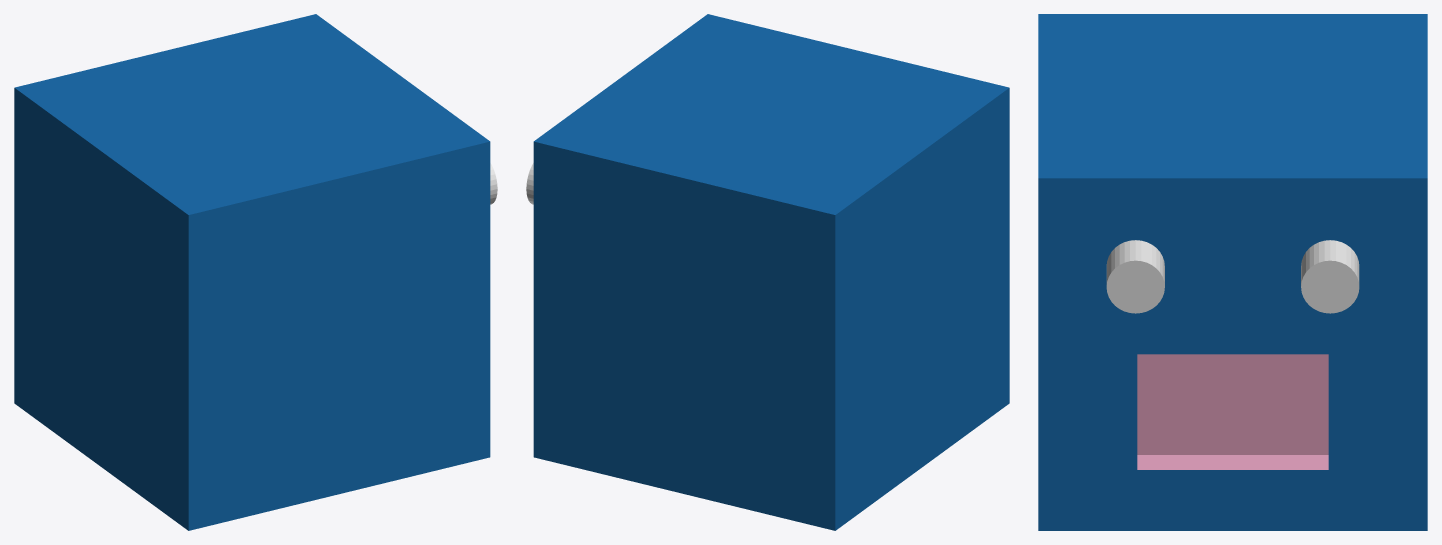
File: boxkun.fbx
The picture shows the model from 3 angles, left to right: view 1: azimuth 30°, elevation 25°; view 2: azimuth 150°, elevation 25°; view 3: azimuth 270°, elevation 25°; orthographic projection. The views are drawn at different scales.
Parts seen in each view (by area): view 1: Cube; view 2: Cube; view 3: Cube, Cylinder.001, Cylinder.
Boxes of the visible parts, x1,y1,x2,y2 form: Cube: [14, 14, 490, 530]; Cube: [533, 14, 1009, 530]; Cube: [1038, 14, 1427, 530]; Cylinder.001: [1301, 240, 1359, 313]; Cylinder: [1106, 240, 1164, 313].
Bounding box in the file's own units: 225 × 200 × 200.
